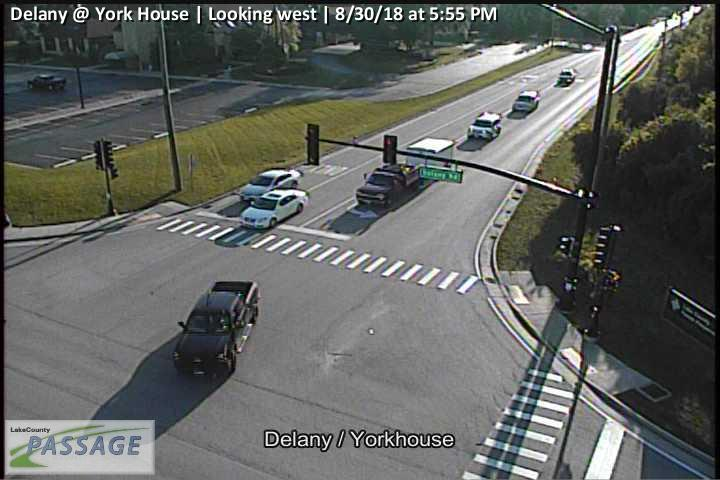SUV: (469, 110, 503, 141), (513, 90, 542, 112), (558, 69, 577, 83)
Sedan: (239, 189, 308, 229), (239, 169, 303, 201)
Truck: (174, 281, 260, 376), (355, 163, 421, 209), (395, 137, 454, 187)
